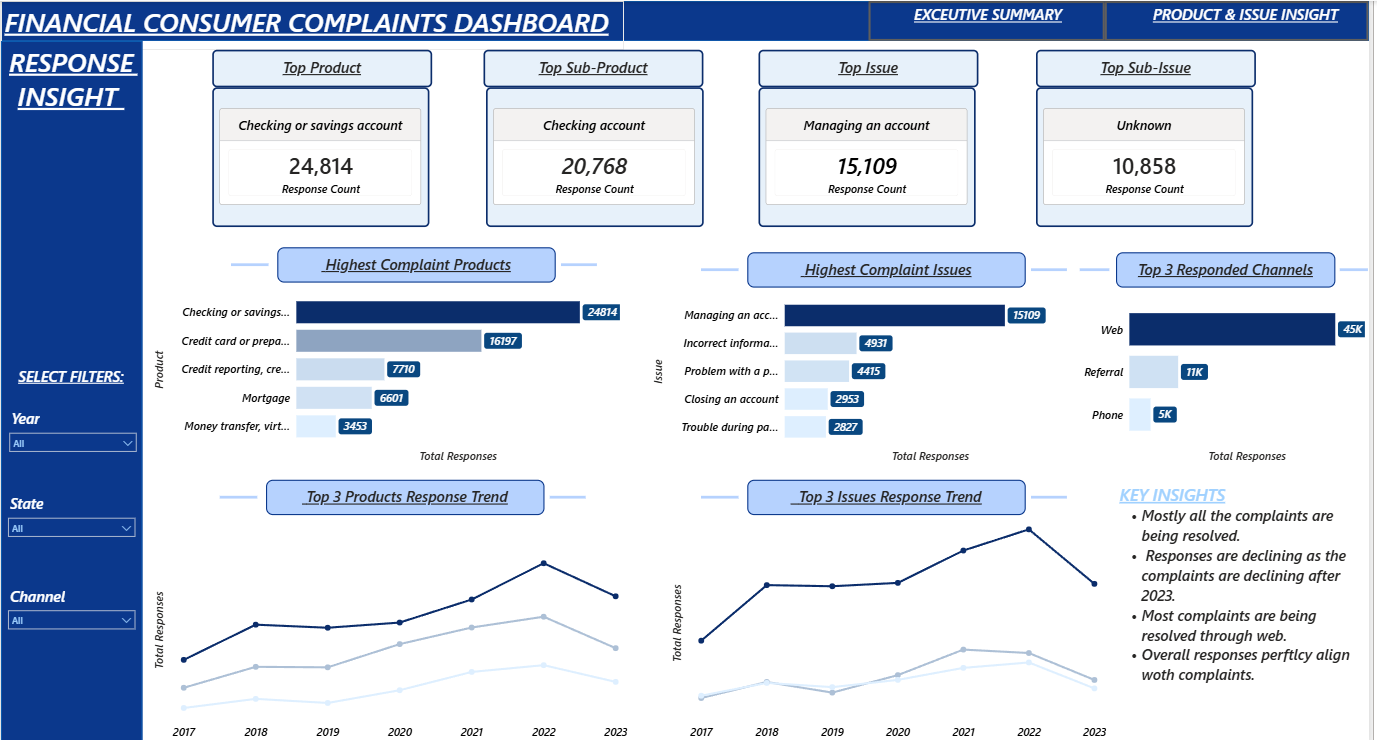

Layout of this report page (visuals, bound fields, positions):
{"tool":"powerbi","page":{"name":"Response Insight","canvas":[1980,1080],"ordinal":2},"visuals":[{"type":"shape","box":[0,0,1979.8,57.9],"z":0},{"type":"actionButton","box":[1255.9,0,342,57.9],"z":0,"group":"g15"},{"type":"actionButton","box":[1597.9,0,381.8,57.9],"z":0,"group":"g16"},{"type":"group","id":"g1","title":"Group 2","box":[305.8,70.6,318.5,256.6],"z":0,"group":"g9"},{"type":"group","id":"g2","title":"Group 1","box":[702,124.8,314.9,202.7],"z":0,"group":"g7"},{"type":"group","id":"g3","title":"Group 1","box":[305.8,125.2,314,202],"z":0,"group":"g1"},{"type":"group","id":"g4","title":"Group 1","box":[1096.6,125.2,314,202],"z":0,"group":"g6"},{"type":"group","id":"g5","title":"Group 1","box":[1498.4,125.2,314,202],"z":0,"group":"g8"},{"type":"textbox","box":[399.2,356.5,402.9,51],"z":0,"group":"g11"},{"type":"textbox","box":[1079.6,363.7,402.9,51],"z":0,"group":"g10"},{"type":"textbox","box":[1613.9,363.7,317.6,51],"z":0,"group":"g14"},{"type":"textbox","box":[382.9,693.1,402.9,51],"z":0,"group":"g12"},{"type":"textbox","box":[1079.6,693.1,402.9,51],"z":0,"group":"g13"},{"type":"textbox","box":[0,0,901.2,70.6],"z":1000},{"type":"textbox","box":[1310.4,0,237.1,57.9],"z":1000,"group":"g15"},{"type":"textbox","box":[1650.5,0,302.2,57.9],"z":1000,"group":"g16"},{"type":"textbox","box":[305.8,70.6,318.5,54.6],"z":1000,"group":"g1"},{"type":"textbox","box":[698.5,70.6,318.5,54.6],"z":1000,"group":"g7"},{"type":"group","id":"g6","title":"Group 2","box":[1096.6,70.6,318.5,256.6],"z":1000,"group":"g9"},{"type":"textbox","box":[1096.6,70.6,318.5,54.6],"z":1000,"group":"g6"},{"type":"textbox","box":[1498.4,70.6,318.5,54.6],"z":1000,"group":"g8"},{"type":"shape","box":[333,361.3,54.4,39.7],"z":1000,"group":"g11"},{"type":"shape","box":[1013.4,368.5,54.4,39.7],"z":1000,"group":"g10"},{"type":"shape","box":[1561.7,368.5,42.9,39.7],"z":1000,"group":"g14"},{"type":"shape","box":[316.7,697.9,54.4,39.7],"z":1000,"group":"g12"},{"type":"shape","box":[1013.4,697.9,54.4,39.7],"z":1000,"group":"g13"},{"type":"shape","box":[0,57.9,204.5,1022.5],"z":2000},{"type":"group","id":"g7","title":"Group 2","box":[698.5,70.6,318.5,256.9],"z":2000,"group":"g9"},{"type":"shape","box":[811.2,361.7,52.1,39.7],"z":2000,"group":"g11"},{"type":"shape","box":[1491.6,368.9,52.1,39.7],"z":2000,"group":"g10"},{"type":"shape","box":[1938.7,368.9,41.1,39.7],"z":2000,"group":"g14"},{"type":"shape","box":[794.9,698.3,52.1,39.7],"z":2000,"group":"g12"},{"type":"shape","box":[1491.6,698.3,52.1,39.7],"z":2000,"group":"g13"},{"type":"group","id":"g8","title":"Group 2","box":[1498.4,70.6,318.5,256.6],"z":3000,"group":"g9"},{"type":"slicer","fields":{"Values":["dim_date.Year"]},"box":[1.8,584.5,204.5,70.6],"z":3000},{"type":"slicer","fields":{"Values":["dim_location.State"]},"box":[0,707.6,204.5,70.6],"z":4000},{"type":"slicer","fields":{"Values":["dim_channel.Submitted via"]},"box":[0,841.5,204.5,70.6],"z":5000},{"type":"group","id":"g9","title":"Group 3","box":[305.8,70.6,1511.1,257],"z":6000},{"type":"group","id":"g10","title":"Group 1","box":[1013.4,363.7,530.2,50.7],"z":7000},{"type":"clusteredBarChart","fields":{"Category":["dim_product.Product"],"Y":["CountNonNull(fact_complaint.Response_Id)"]},"box":[217.2,405.4,684.1,267.8],"z":8000},{"type":"clusteredBarChart","fields":{"Category":["dim_issue.Issue"],"Y":["CountNonNull(fact_complaint.Response_Id)"]},"box":[939.2,410.8,622.5,262.4],"z":9000},{"type":"cardVisual","fields":{"Rows":["dim_product.Sub-product"],"Data":["CountNonNull(fact_complaint.Response_Id)"]},"box":[702,124.8,314.9,202.7],"z":9001,"group":"g2"},{"type":"cardVisual","fields":{"Rows":["dim_product.Product"],"Data":["CountNonNull(fact_complaint.Response_Id)"]},"box":[305.8,125.2,314,202],"z":9001,"group":"g3"},{"type":"cardVisual","fields":{"Rows":["dim_issue.Issue"],"Data":["CountNonNull(fact_complaint.Response_Id)"]},"box":[1096.6,125.2,314,202],"z":9001,"group":"g4"},{"type":"cardVisual","fields":{"Data":["CountNonNull(fact_complaint.Response_Id)"],"Rows":["dim_issue.Sub-issue"]},"box":[1498.4,125.2,314,202],"z":9001,"group":"g5"},{"type":"group","id":"g11","title":"Group 1","box":[333,356.5,530.2,50.7],"z":10000},{"type":"lineChart","fields":{"Category":["dim_date.Year"],"Series":["dim_product.Product"],"Y":["CountNonNull(fact_complaint.Response_Id)"]},"box":[217.2,763.7,694.9,316.7],"z":11000},{"type":"group","id":"g12","title":"Group 1","box":[316.7,693.1,530.2,50.7],"z":12000},{"type":"lineChart","fields":{"Category":["dim_date.Year"],"Series":["dim_issue.Issue"],"Y":["CountNonNull(fact_complaint.Response_Id)"]},"box":[966.4,743.8,638.8,336.6],"z":13000},{"type":"group","id":"g13","title":"Group 1","box":[1013.4,693.1,530.2,50.7],"z":14000},{"type":"clusteredBarChart","fields":{"Category":["dim_channel.Submitted via"],"Y":["CountNonNull(fact_complaint.Response_Id)"]},"box":[1561.7,414.4,418,258.8],"z":15000},{"type":"group","id":"g14","title":"Group 1","box":[1561.7,363.7,418,50.7],"z":16000},{"type":"textbox","box":[0,57.9,202.7,153.8],"z":17000},{"type":"textbox","box":[0,523,202.7,45.2],"z":18000},{"type":"group","id":"g15","title":"Group 4","box":[1255.9,0,342,57.9],"z":19000},{"type":"group","id":"g16","title":"Group 5","box":[1597.9,0,381.8,57.9],"z":20000},{"type":"textbox","box":[1614.2,693.1,365.6,387.3],"z":21000}]}

Visuals, with their boxes in screenshot pixels (x1, y1, x2, y2), scaled from the page's 1980x1080 canvas onto the 1377x740 screenshot:
shape: pyautogui.locateOnScreen(0, 0, 1376, 40)
actionButton: pyautogui.locateOnScreen(873, 0, 1111, 40)
actionButton: pyautogui.locateOnScreen(1111, 0, 1376, 40)
"Group 2" group: pyautogui.locateOnScreen(213, 48, 434, 224)
"Group 1" group: pyautogui.locateOnScreen(488, 86, 707, 224)
"Group 1" group: pyautogui.locateOnScreen(213, 86, 431, 224)
"Group 1" group: pyautogui.locateOnScreen(763, 86, 981, 224)
"Group 1" group: pyautogui.locateOnScreen(1042, 86, 1260, 224)
textbox: pyautogui.locateOnScreen(278, 244, 558, 279)
textbox: pyautogui.locateOnScreen(751, 249, 1031, 284)
textbox: pyautogui.locateOnScreen(1122, 249, 1343, 284)
textbox: pyautogui.locateOnScreen(266, 475, 546, 510)
textbox: pyautogui.locateOnScreen(751, 475, 1031, 510)
textbox: pyautogui.locateOnScreen(0, 0, 627, 48)
textbox: pyautogui.locateOnScreen(911, 0, 1076, 40)
textbox: pyautogui.locateOnScreen(1148, 0, 1358, 40)
textbox: pyautogui.locateOnScreen(213, 48, 434, 86)
textbox: pyautogui.locateOnScreen(486, 48, 707, 86)
"Group 2" group: pyautogui.locateOnScreen(763, 48, 984, 224)
textbox: pyautogui.locateOnScreen(763, 48, 984, 86)
textbox: pyautogui.locateOnScreen(1042, 48, 1264, 86)
shape: pyautogui.locateOnScreen(232, 248, 269, 275)
shape: pyautogui.locateOnScreen(705, 252, 743, 280)
shape: pyautogui.locateOnScreen(1086, 252, 1116, 280)
shape: pyautogui.locateOnScreen(220, 478, 258, 505)
shape: pyautogui.locateOnScreen(705, 478, 743, 505)
shape: pyautogui.locateOnScreen(0, 40, 142, 739)
"Group 2" group: pyautogui.locateOnScreen(486, 48, 707, 224)
shape: pyautogui.locateOnScreen(564, 248, 600, 275)
shape: pyautogui.locateOnScreen(1037, 253, 1074, 280)
shape: pyautogui.locateOnScreen(1348, 253, 1376, 280)
shape: pyautogui.locateOnScreen(553, 478, 589, 506)
shape: pyautogui.locateOnScreen(1037, 478, 1074, 506)
"Group 2" group: pyautogui.locateOnScreen(1042, 48, 1264, 224)
slicer - dim_date.Year: pyautogui.locateOnScreen(1, 400, 143, 449)
slicer - dim_location.State: pyautogui.locateOnScreen(0, 485, 142, 533)
slicer - dim_channel.Submitted via: pyautogui.locateOnScreen(0, 577, 142, 625)
"Group 3" group: pyautogui.locateOnScreen(213, 48, 1264, 224)
"Group 1" group: pyautogui.locateOnScreen(705, 249, 1074, 284)
clusteredBarChart - dim_product.Product x CountNonNull(fact_complaint.Response_Id): pyautogui.locateOnScreen(151, 278, 627, 461)
clusteredBarChart - dim_issue.Issue x CountNonNull(fact_complaint.Response_Id): pyautogui.locateOnScreen(653, 281, 1086, 461)
cardVisual - dim_product.Sub-product x CountNonNull(fact_complaint.Response_Id): pyautogui.locateOnScreen(488, 86, 707, 224)
cardVisual - dim_product.Product x CountNonNull(fact_complaint.Response_Id): pyautogui.locateOnScreen(213, 86, 431, 224)
cardVisual - dim_issue.Issue x CountNonNull(fact_complaint.Response_Id): pyautogui.locateOnScreen(763, 86, 981, 224)
cardVisual - CountNonNull(fact_complaint.Response_Id) x dim_issue.Sub-issue: pyautogui.locateOnScreen(1042, 86, 1260, 224)
"Group 1" group: pyautogui.locateOnScreen(232, 244, 600, 279)
lineChart - dim_date.Year x dim_product.Product: pyautogui.locateOnScreen(151, 523, 634, 739)
"Group 1" group: pyautogui.locateOnScreen(220, 475, 589, 510)
lineChart - dim_date.Year x dim_issue.Issue: pyautogui.locateOnScreen(672, 510, 1116, 739)
"Group 1" group: pyautogui.locateOnScreen(705, 475, 1074, 510)
clusteredBarChart - dim_channel.Submitted via x CountNonNull(fact_complaint.Response_Id): pyautogui.locateOnScreen(1086, 284, 1376, 461)
"Group 1" group: pyautogui.locateOnScreen(1086, 249, 1376, 284)
textbox: pyautogui.locateOnScreen(0, 40, 141, 145)
textbox: pyautogui.locateOnScreen(0, 358, 141, 389)
"Group 4" group: pyautogui.locateOnScreen(873, 0, 1111, 40)
"Group 5" group: pyautogui.locateOnScreen(1111, 0, 1376, 40)
textbox: pyautogui.locateOnScreen(1123, 475, 1376, 739)
